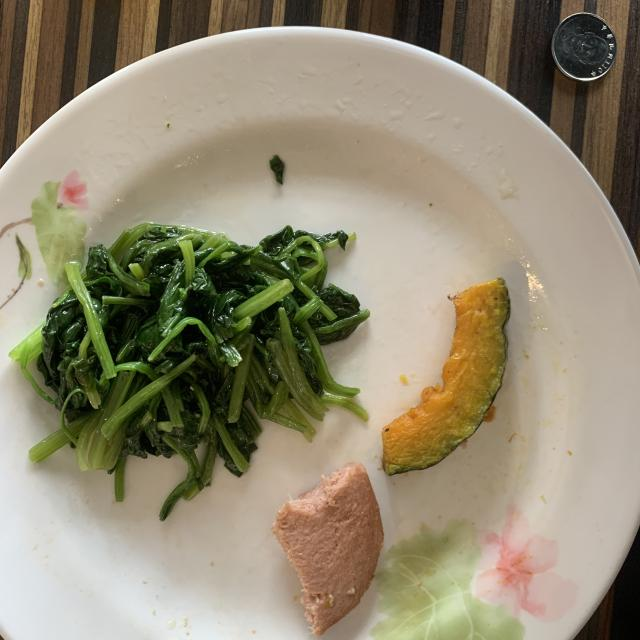Spam: (271, 462, 384, 636)
coin: (551, 12, 616, 82)
mustard greens: (10, 222, 370, 520)
pumpkin: (382, 279, 510, 475)
